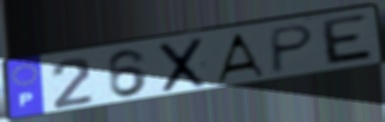2: (48, 56, 97, 111)
6: (105, 47, 151, 100)
A: (212, 31, 268, 84)
E: (321, 12, 377, 67)
P: (269, 23, 318, 77)
X: (158, 35, 209, 95)
